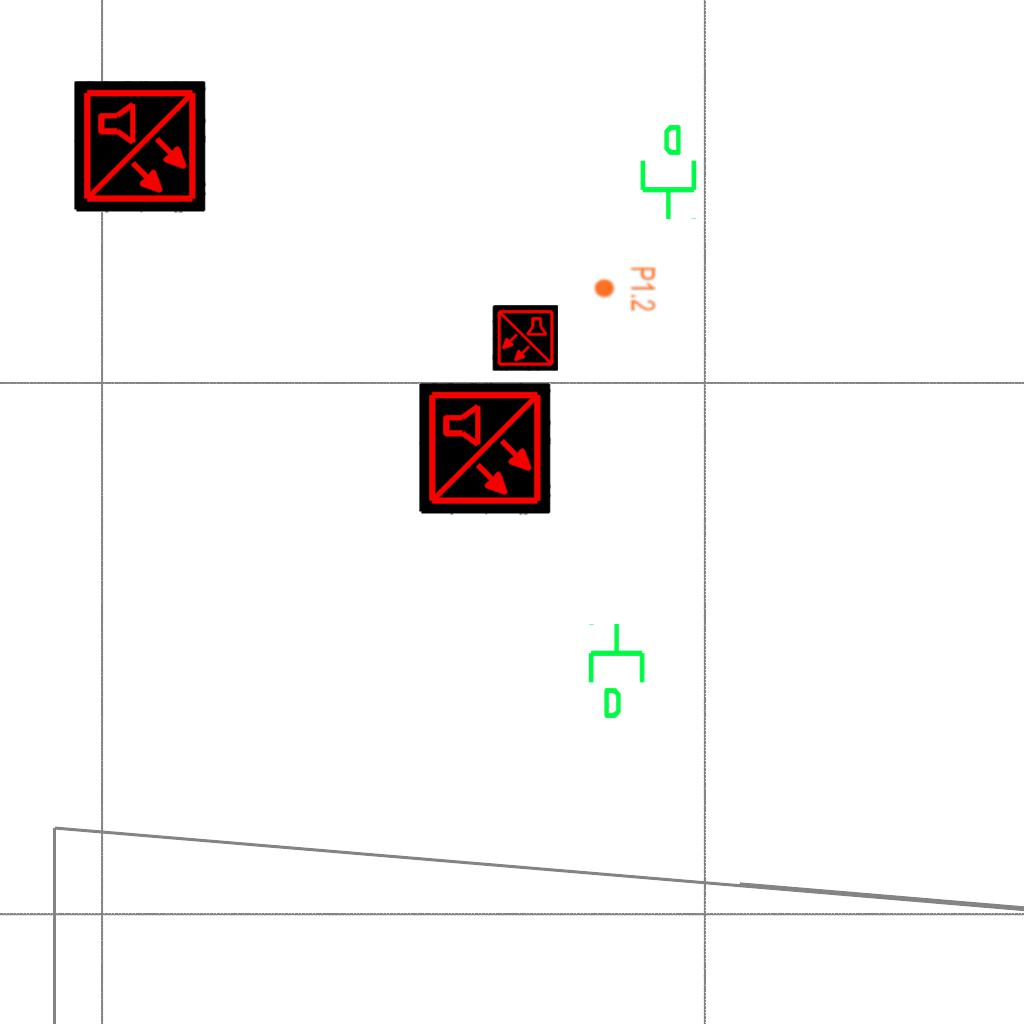Datenanschluss_einfach: (584, 621, 653, 721), (632, 122, 701, 222)
Downlight_LED_Einbauleuchten_Flur: (593, 266, 657, 312)
OKW_Multisensormelder_(Kombination_optischer_Rauch-Kahlenmonoxid_Waerme-Melder): (419, 383, 551, 515), (74, 81, 206, 213), (492, 305, 558, 371)
Zugtaster: (74, 76, 216, 202)
